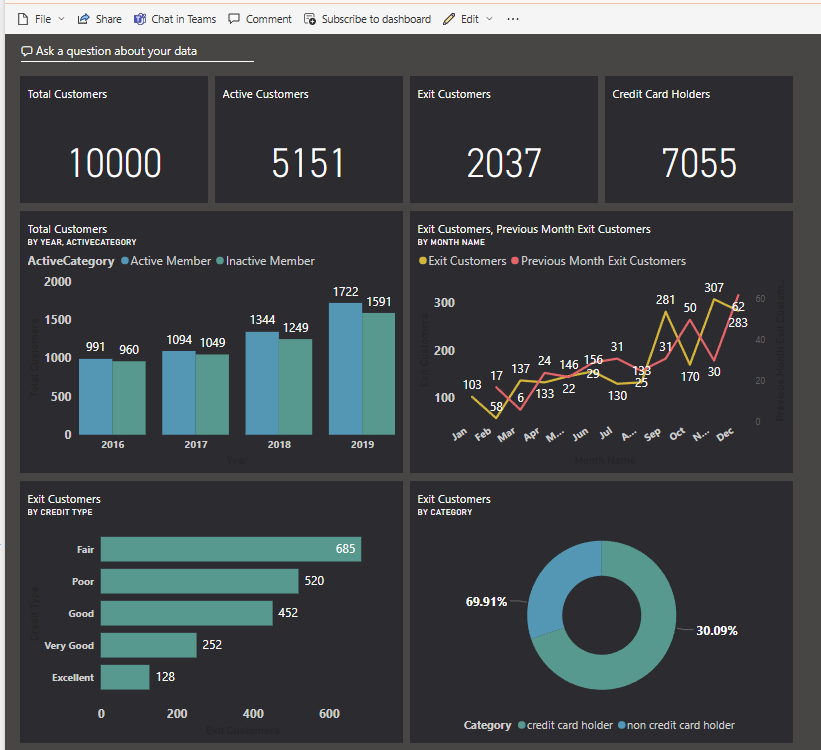

Layout of this report page (visuals, bound fields, positions):
{"tool":"powerbi","page":{"name":"Homepage","canvas":[1280,720],"ordinal":0},"visuals":[{"type":"textbox","box":[9.9,0,1270.8,83.4],"z":0},{"type":"textbox","box":[9.9,8.3,1255.6,87.8],"z":1000},{"type":"image","box":[84.5,21.5,142.5,74.5],"z":2000},{"type":"card","fields":{"Values":["Calculation.Total Customers"]},"box":[9.9,111,178.9,81.2],"z":3000},{"type":"card","fields":{"Values":["Calculation.Active Customers"]},"box":[200.4,111,187.2,81.2],"z":4000},{"type":"card","fields":{"Values":["Calculation.Credit Card Holders"]},"box":[583.1,111,173.9,81.2],"z":5000},{"type":"card","fields":{"Values":["Calculation.Non Credit Card Holders"]},"box":[770.3,111,180.6,81.2],"z":6000},{"type":"card","fields":{"Values":["Calculation.Inactive Customers"]},"box":[399.2,111,172.3,81.2],"z":7000},{"type":"card","fields":{"Values":["Calculation.Retain Customers"]},"box":[962.4,109.3,149.1,82.8],"z":8000},{"type":"card","fields":{"Values":["Calculation.Exit Customers"]},"box":[1123.1,111,140.8,81.2],"z":9000},{"type":"shape","box":[11.6,192.2,1254,23.2],"z":10000},{"type":"shape","box":[240.2,215.3,24.8,487],"z":11000},{"type":"slicer","fields":{"Values":["DateMaster.Year"]},"box":[11.6,215.3,228.6,69.6],"z":12000},{"type":"slicer","fields":{"Values":["ExitCustomer.ExitCategory"]},"box":[11.6,543.3,228.6,69.6],"z":13000},{"type":"slicer","fields":{"Values":["Gender.GenderCategory"]},"box":[9.9,632.8,228.6,69.6],"z":14000},{"type":"slicer","fields":{"Values":["DateMaster.MonthName"]},"box":[11.6,289.9,228.6,69.6],"z":15000},{"type":"slicer","fields":{"Values":["Geography.GeographyLocation"]},"box":[11.6,374.4,228.6,69.6],"z":16000},{"type":"slicer","fields":{"Values":["ActiveCustomer.ActiveCategory"]},"box":[9.9,458.8,228.6,69.6],"z":17000},{"type":"clusteredColumnChart","fields":{"Category":["DateMaster.Year","DateMaster.Month"],"Y":["Calculation.Total Customers"],"Series":["ActiveCustomer.ActiveCategory"]},"box":[265.7,215.7,374.3,250],"z":18000},{"type":"barChart","fields":{"Y":["Calculation.Exit Customers"],"Category":["Bank_Churn.Credit Type"]},"box":[645.7,248.6,317.1,217.1],"z":20000},{"type":"pieChart","fields":{"Category":["CreditCard.Category"],"Y":["Calculation.Exit Customers"]},"box":[972.9,248.6,290,217.1],"z":21000},{"type":"lineChart","fields":{"Y":["Calculation.Exit Customers"],"Y2":["Calculation.Previous Month Exit Customers"],"Category":["DateMaster.Month Name"]},"box":[265,478.3,651.7,225],"z":22000},{"type":"textbox","box":[933.3,478.3,330,225],"z":23000},{"type":"actionButton","box":[1194.3,33.1,53,39.8],"z":24000},{"type":"bookmarkNavigator","box":[645.7,215.7,620,27.1],"z":25000}]}

Visuals, with their boxes on the page's 1280x720 design canvas (x1, y1, x2, y2). These are canvas units, not pixel positions in the 821x750 screenshot, which may show the page scaled, cropped or inside an application window:
textbox: bbox(10, 0, 1281, 83)
textbox: bbox(10, 8, 1266, 96)
image: bbox(84, 22, 227, 96)
card - Calculation.Total Customers: bbox(10, 111, 189, 192)
card - Calculation.Active Customers: bbox(200, 111, 388, 192)
card - Calculation.Credit Card Holders: bbox(583, 111, 757, 192)
card - Calculation.Non Credit Card Holders: bbox(770, 111, 951, 192)
card - Calculation.Inactive Customers: bbox(399, 111, 572, 192)
card - Calculation.Retain Customers: bbox(962, 109, 1112, 192)
card - Calculation.Exit Customers: bbox(1123, 111, 1264, 192)
shape: bbox(12, 192, 1266, 215)
shape: bbox(240, 215, 265, 702)
slicer - DateMaster.Year: bbox(12, 215, 240, 285)
slicer - ExitCustomer.ExitCategory: bbox(12, 543, 240, 613)
slicer - Gender.GenderCategory: bbox(10, 633, 238, 702)
slicer - DateMaster.MonthName: bbox(12, 290, 240, 360)
slicer - Geography.GeographyLocation: bbox(12, 374, 240, 444)
slicer - ActiveCustomer.ActiveCategory: bbox(10, 459, 238, 528)
clusteredColumnChart - DateMaster.Year x DateMaster.Month: bbox(266, 216, 640, 466)
barChart - Calculation.Exit Customers x Bank_Churn.Credit Type: bbox(646, 249, 963, 466)
pieChart - CreditCard.Category x Calculation.Exit Customers: bbox(973, 249, 1263, 466)
lineChart - Calculation.Exit Customers x Calculation.Previous Month Exit Customers: bbox(265, 478, 917, 703)
textbox: bbox(933, 478, 1263, 703)
actionButton: bbox(1194, 33, 1247, 73)
bookmarkNavigator: bbox(646, 216, 1266, 243)
